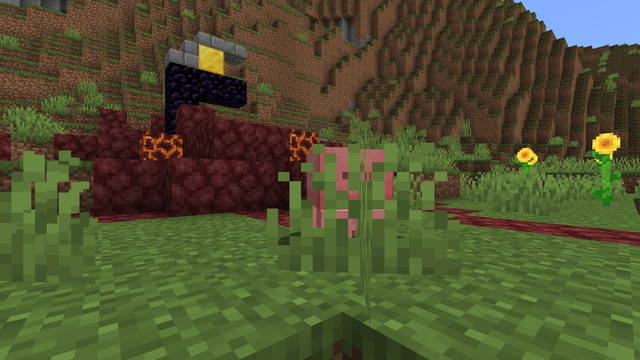cochons: (281, 143, 406, 259)
